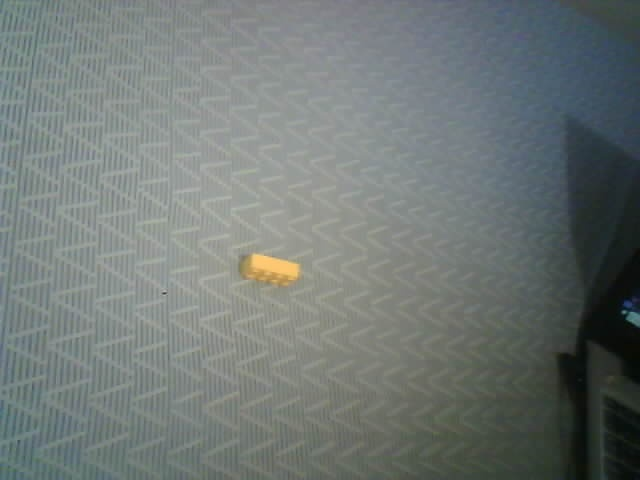lego: (239, 253, 301, 286)
